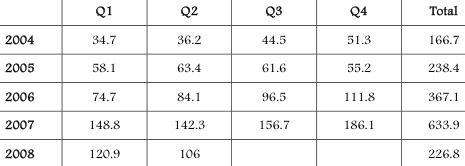table: (4, 4, 458, 160)
table column: (60, 4, 145, 160), (145, 4, 230, 160), (230, 4, 315, 160), (315, 4, 400, 160), (400, 4, 458, 160), (4, 4, 60, 160)
table column header: (4, 4, 458, 25)
table row: (4, 53, 458, 82), (4, 110, 458, 139), (4, 25, 458, 53), (4, 82, 458, 110), (4, 4, 458, 25), (4, 139, 458, 160)
